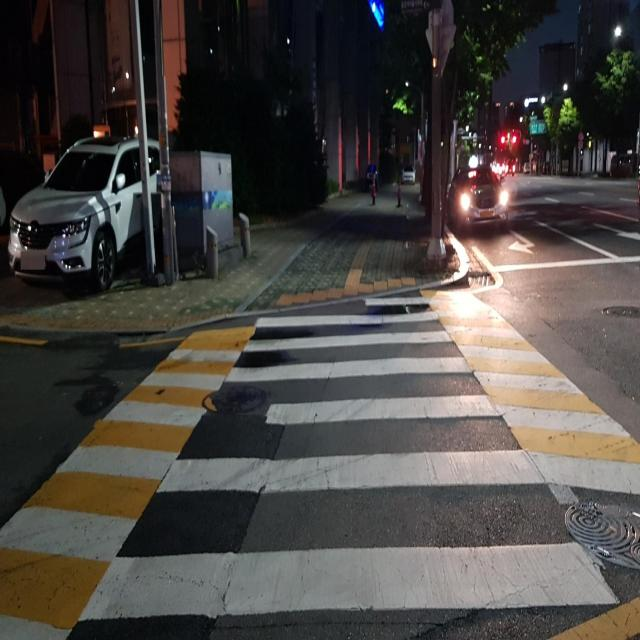횡단보도: (77, 296, 620, 622)
